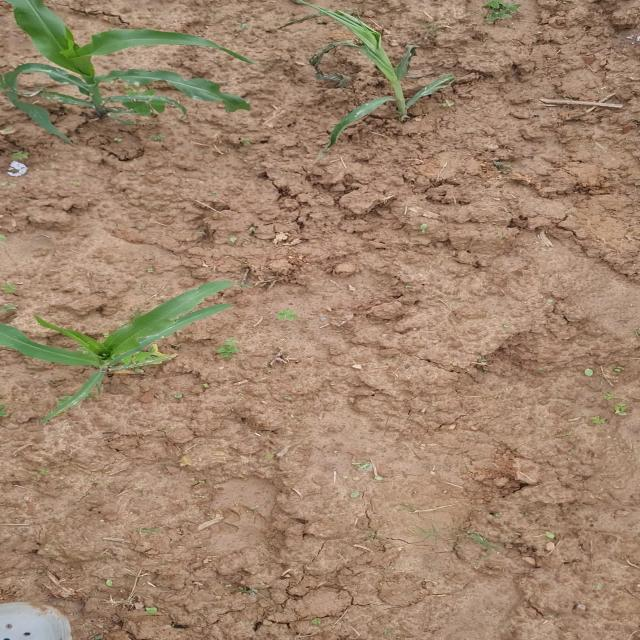maize: (0, 273, 225, 410), (6, 0, 187, 152), (305, 2, 450, 132)
weed: (493, 3, 511, 24), (639, 38, 640, 155)
